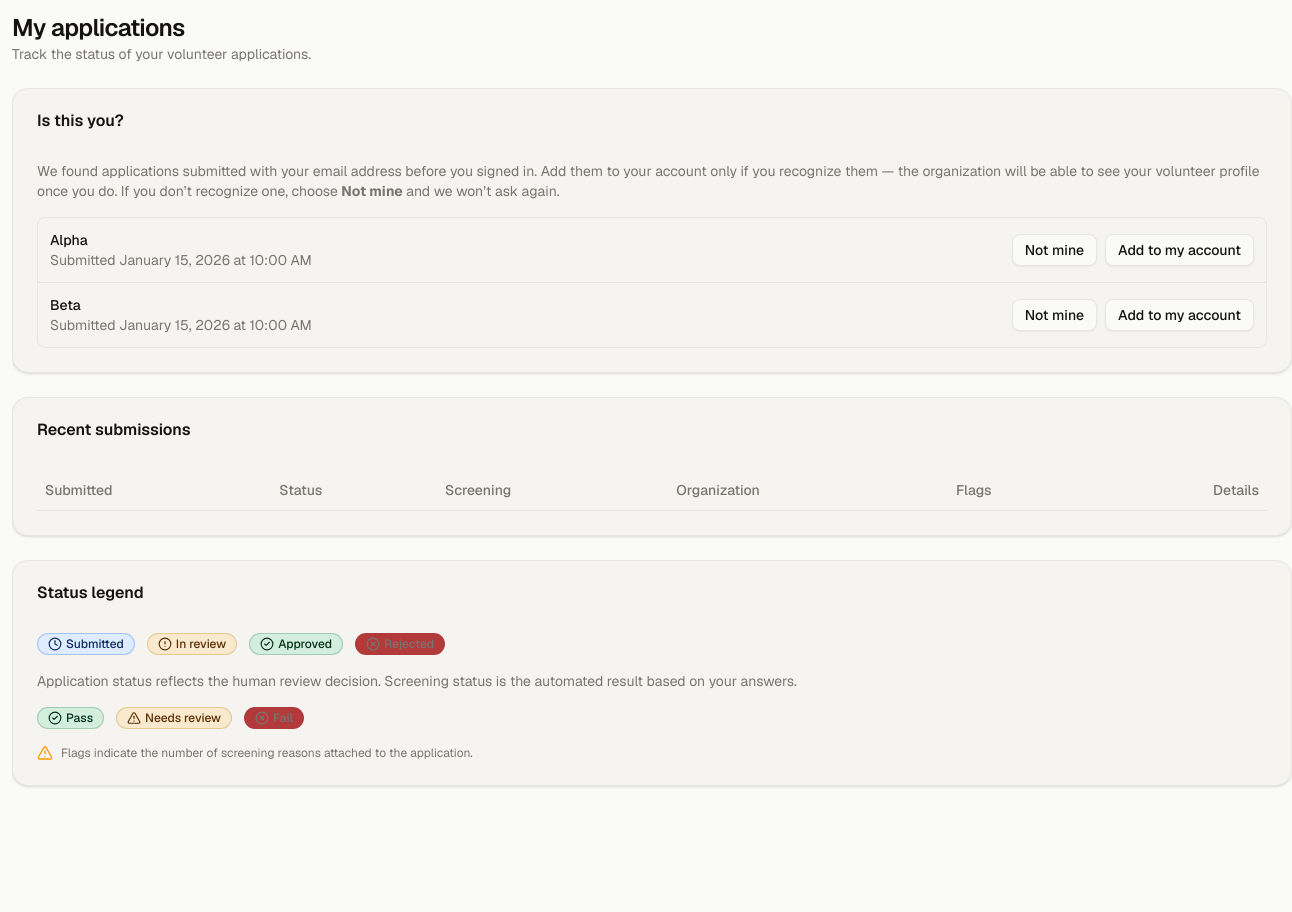
Test: ClaimableApplications — declining › only the confirmed row enters the confirming state
Click the button with aria-label "Not mine: Alpha" at {"x": 1054, "y": 250}, box [1012, 234, 1097, 266]
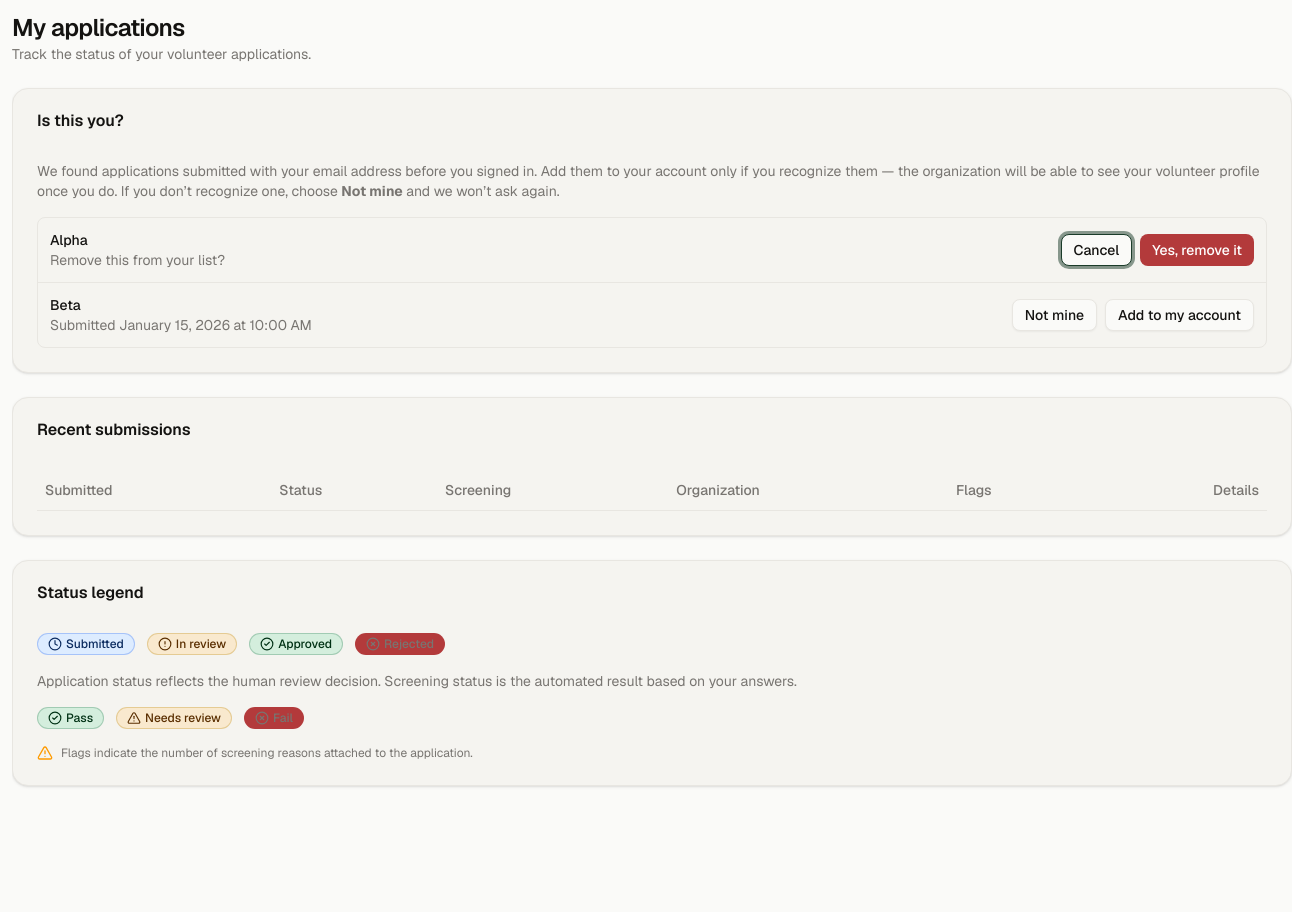
Expected: the button with aria-label "Not mine: Beta" is shown, [1012, 299, 1097, 331]
Expected: the button "Yes, remove it" is shown, [1140, 234, 1254, 266]
